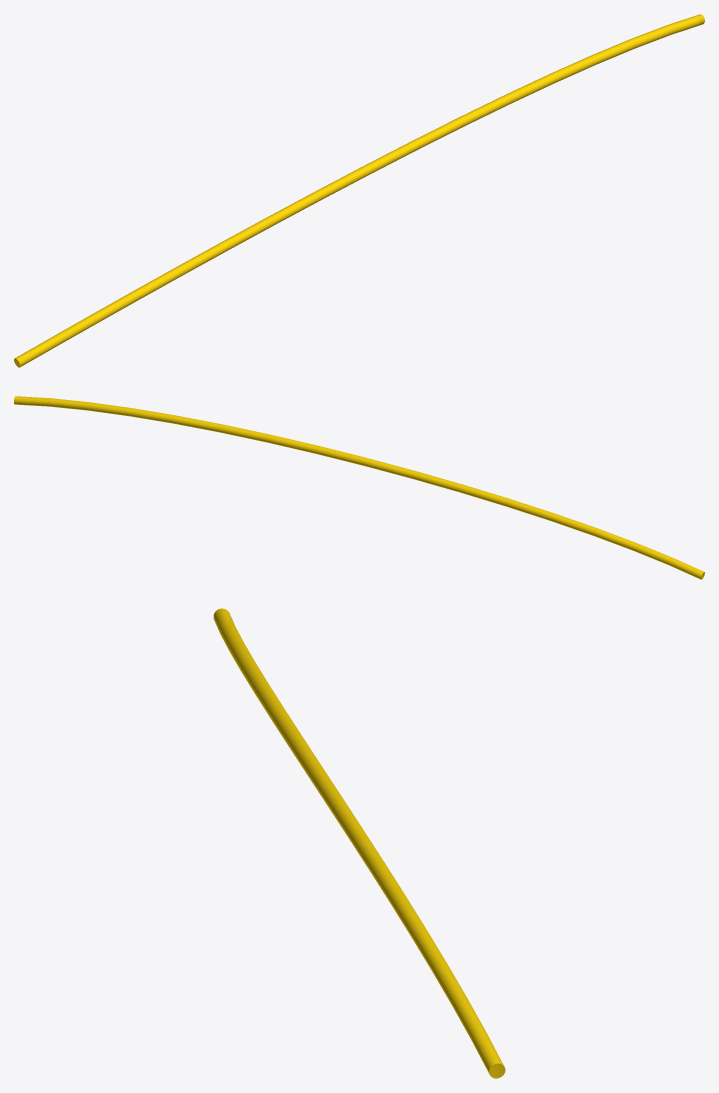
Rendered from Event_421115418_track_174.fbx.
3 views of the same model, one above another, from view 1: azimuth 30°, elevation 25°; view 2: azimuth 150°, elevation 25°; view 3: azimuth 270°, elevation 25° (orthographic). The views are drawn at different scales.
Parts seen in each view (by area): view 1: Model; view 2: Model; view 3: Model.
Boxes of the visible parts, x1,y1,x2,y2 form: Model: [14, 14, 704, 367]; Model: [14, 396, 704, 579]; Model: [213, 608, 505, 1078].
Bounding box in the file's own units: 3.38 × 0.4438 × 0.688.
